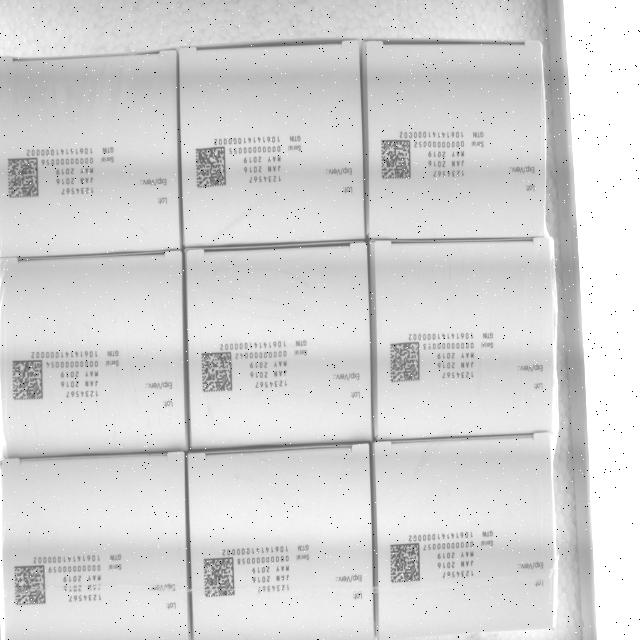datamatrix: (387, 542, 421, 586), (388, 342, 422, 385), (200, 351, 234, 394), (202, 554, 235, 598), (11, 357, 44, 401), (14, 565, 47, 608), (6, 157, 39, 200), (194, 146, 227, 189), (379, 139, 412, 182)
